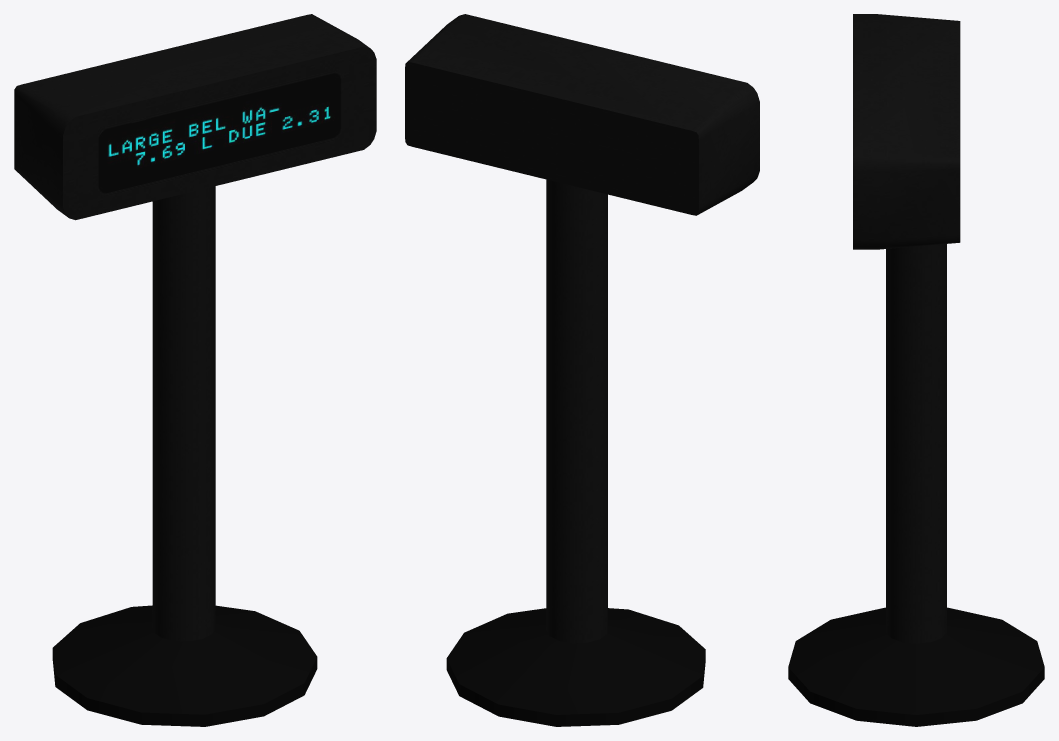
File: SM_Till_Readout_01.glb
3 views of the same model, side by side, from view 1: azimuth 30°, elevation 25°; view 2: azimuth 150°, elevation 25°; view 3: azimuth 270°, elevation 25° (orthographic). The views are drawn at different scales.
Parts seen in each view (by area): view 1: SM_Till_Readout_01; view 2: SM_Till_Readout_01; view 3: SM_Till_Readout_01.
Part boxes in pixels (bbox=[...]): SM_Till_Readout_01: bbox=[14, 14, 376, 726]; SM_Till_Readout_01: bbox=[405, 14, 759, 726]; SM_Till_Readout_01: bbox=[788, 14, 1044, 726].
Bounding box in the file's own units: 0.2394 × 0.4466 × 0.1754.
1 material, 1 textured.
